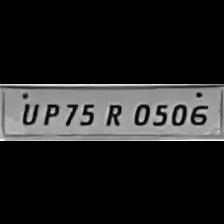0: (129, 100, 151, 125), (169, 100, 186, 124)
5: (74, 100, 96, 125), (151, 100, 169, 125)
6: (187, 102, 209, 124)
7: (61, 100, 78, 125)
P: (39, 100, 61, 125)
R: (99, 100, 125, 125)
U: (18, 98, 41, 124)
